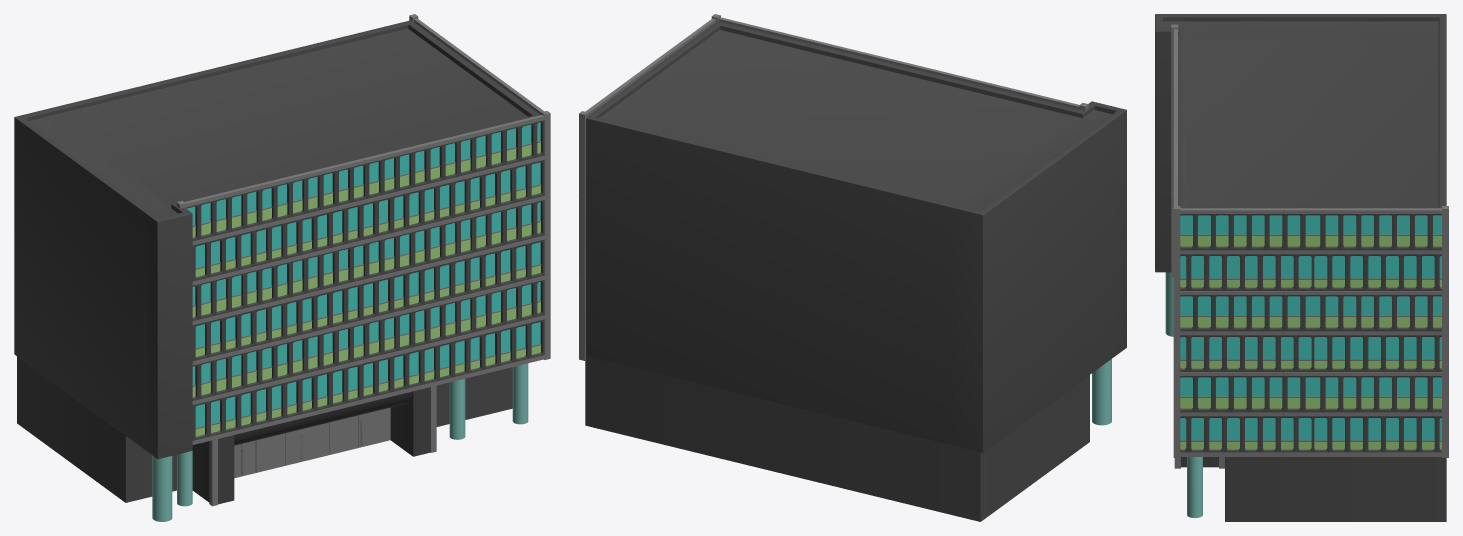
File: SM_building_mall.fbx
The picture shows the model from 3 angles, left to right: view 1: azimuth 30°, elevation 25°; view 2: azimuth 150°, elevation 25°; view 3: azimuth 270°, elevation 25°; orthographic projection.
Parts seen in each view (by area): view 1: Object1284532; view 2: Object1284532; view 3: Object1284532.
Part boxes in pixels (<box>): Object1284532: <box>14,14,550,521</box>; Object1284532: <box>579,14,1126,521</box>; Object1284532: <box>1155,14,1448,521</box>.
Size of the model in its own units: 1287 by 952 by 802.
